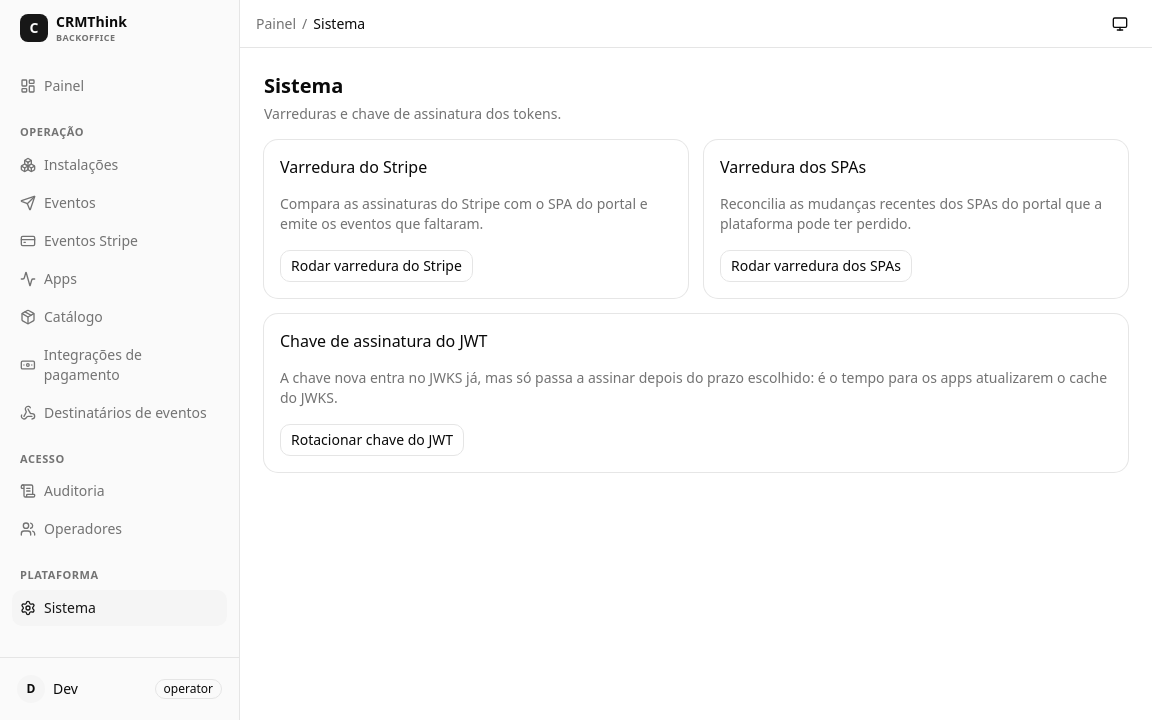
it: tela Sistema › rotação da chave do JWT: exige ROTACIONAR e o motivo e envia leadMinutes
Click the button "Rotacionar chave do JWT": (372, 440) x1=280 y1=424 x2=464 y2=456
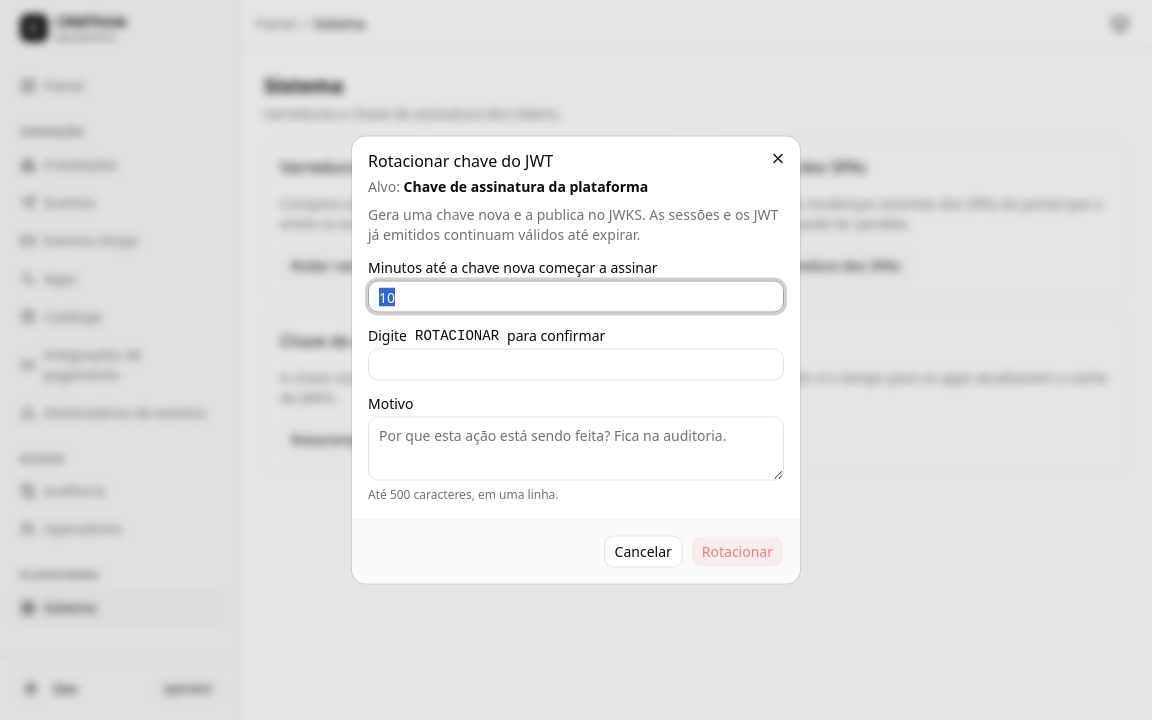
Now the button "Rotacionar" is disabled, box x1=691 y1=536 x2=784 y2=568
In the field labelled "Digite ROTACIONAR para confirmar": (576, 364) x1=368 y1=348 x2=784 y2=380, type "ROTACIONAR"
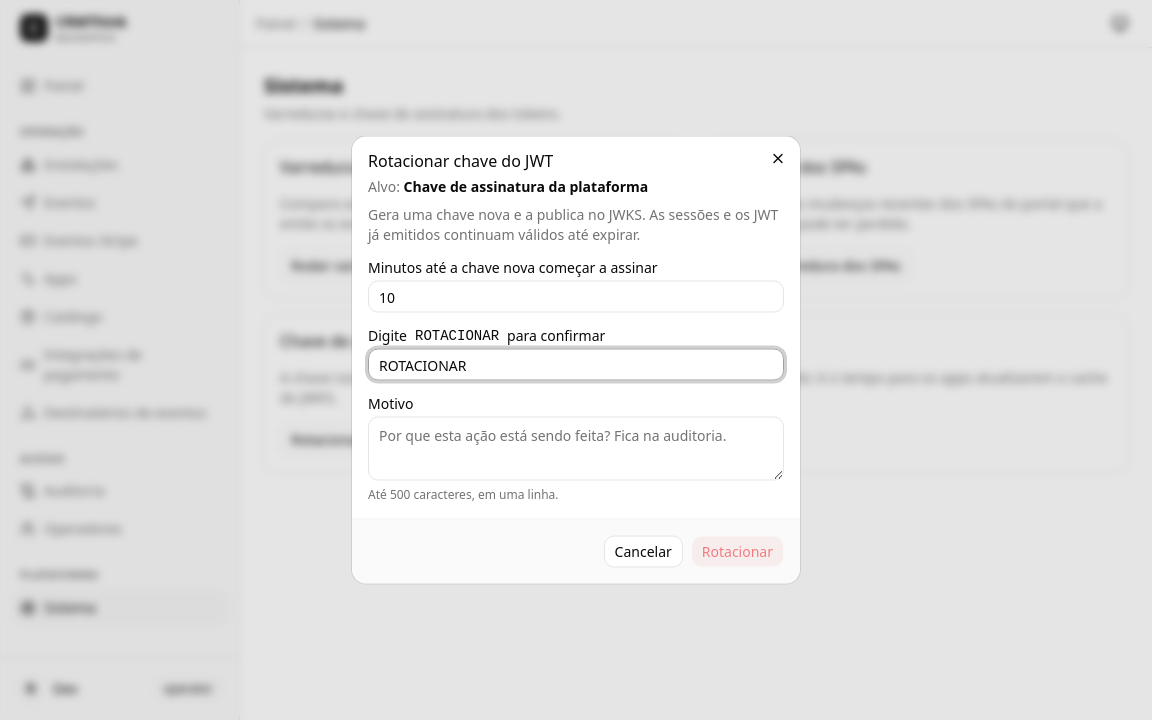
Now the button "Rotacionar" is disabled, box x1=691 y1=536 x2=784 y2=568
In the text box labelled "Motivo": (576, 448) x1=368 y1=416 x2=784 y2=480, type "rotina trimestral"
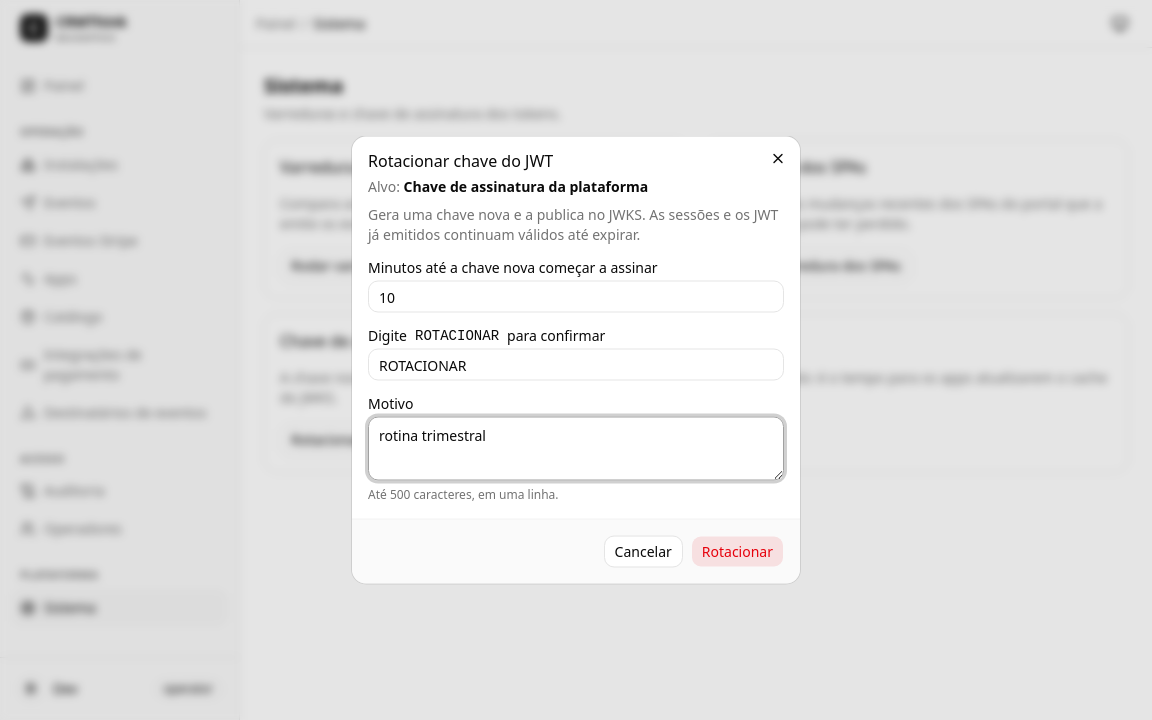
Now the button "Rotacionar" is enabled
Click the button "Rotacionar": (737, 552) x1=691 y1=536 x2=784 y2=568
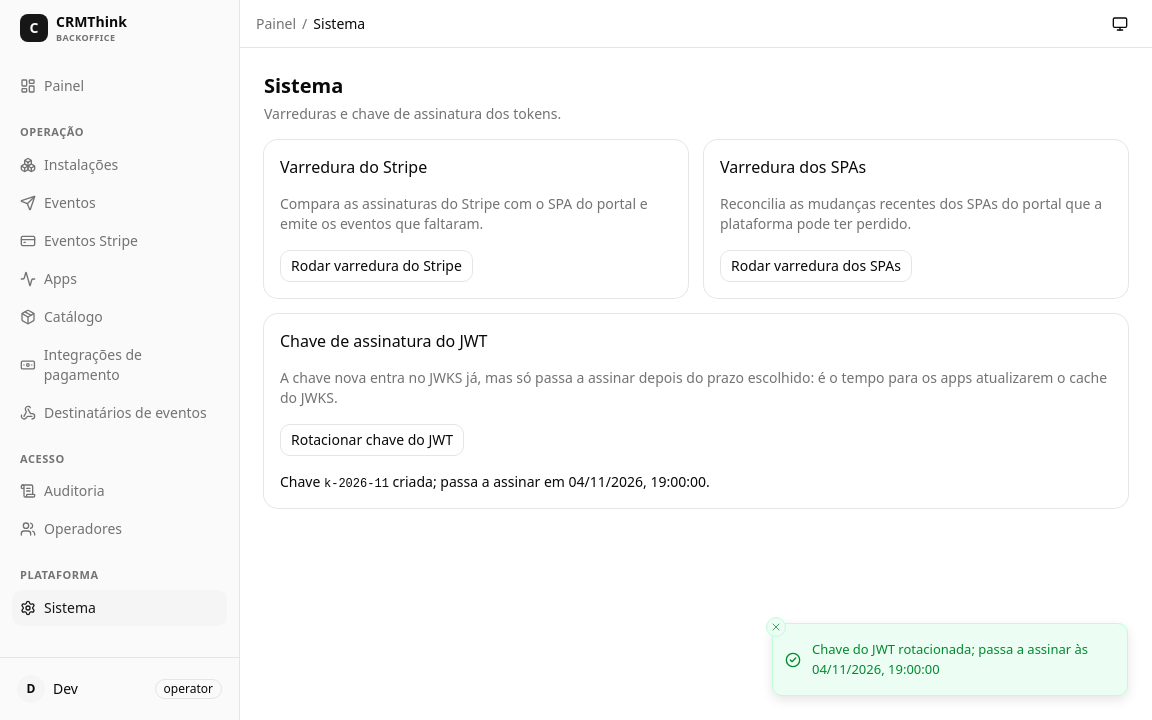
Now the text "Chave do JWT rotacionada" is shown, box x1=812 y1=640 x2=1088 y2=678
Now the message shows "k-2026-11", box x1=324 y1=477 x2=389 y2=491
